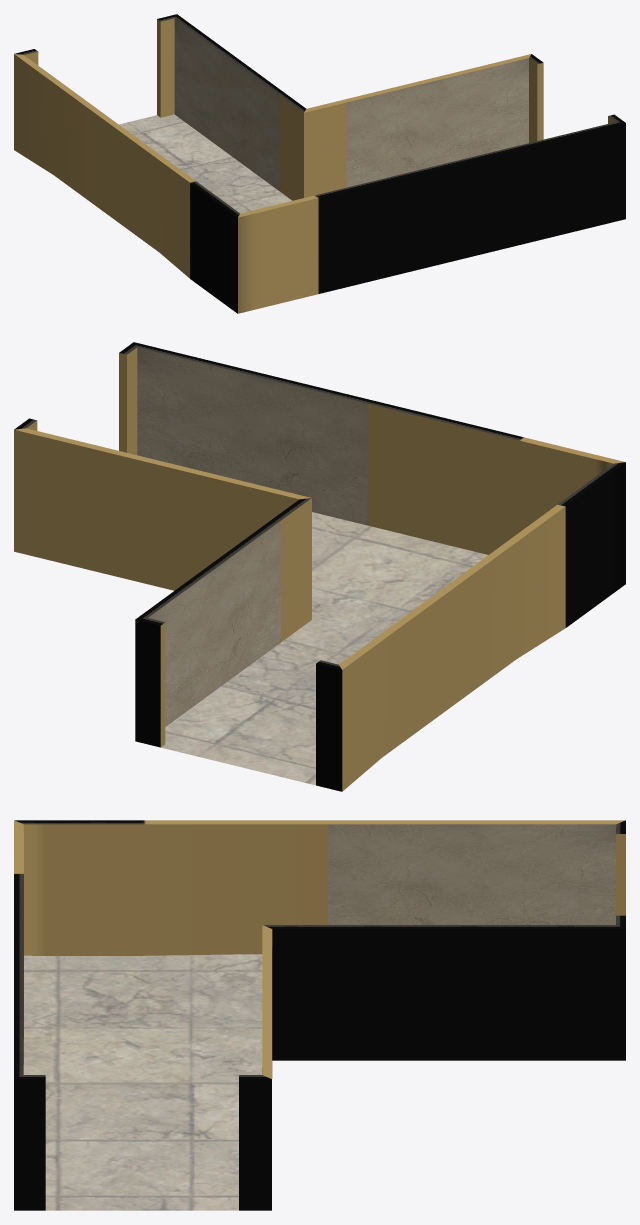
Rendered from Hall_Turn.fbx.
The picture shows the model from 3 angles, top to bottom: view 1: azimuth 30°, elevation 25°; view 2: azimuth 150°, elevation 25°; view 3: azimuth 270°, elevation 25°; orthographic projection. The views are drawn at different scales.
Visible parts, largest first — view 1: Hall_Turn; view 2: Hall_Turn; view 3: Hall_Turn.
Boxes of the visible parts, x1,y1,x2,y2 form: Hall_Turn: [14, 14, 625, 313]; Hall_Turn: [14, 342, 625, 791]; Hall_Turn: [14, 820, 625, 1210].
Bounding box in the file's own units: 6.34 × 1.5 × 6.33.
Materials: 1 (1 with a texture image).
